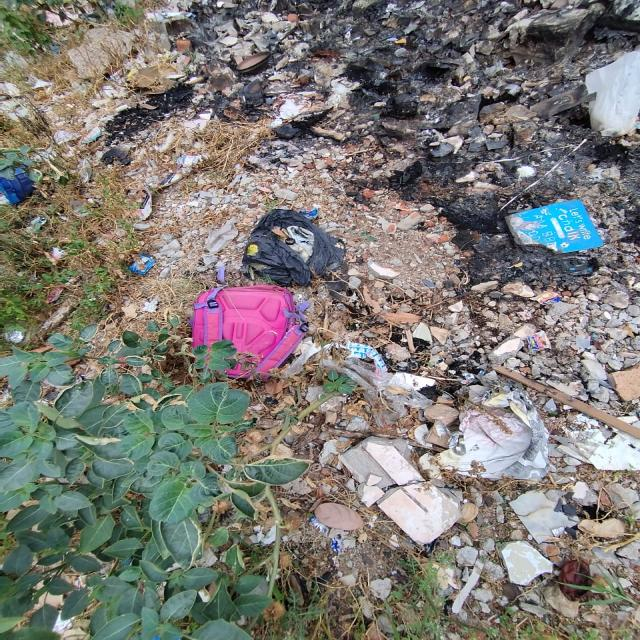dry: (239, 203, 354, 289), (495, 200, 613, 255), (589, 410, 640, 478), (119, 247, 164, 281)
